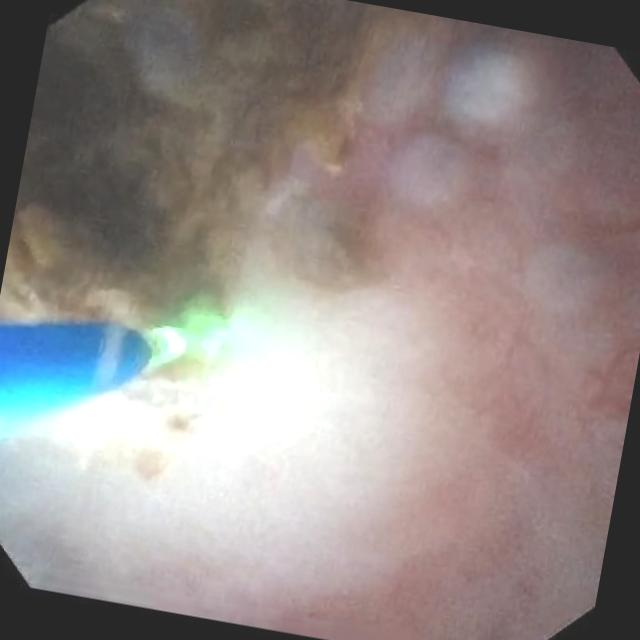laser-fibre: (144, 327, 186, 366)
laser_dot: (186, 311, 242, 361)
stone-new: (0, 0, 414, 381), (271, 197, 374, 291), (133, 450, 165, 481), (166, 412, 190, 434)
